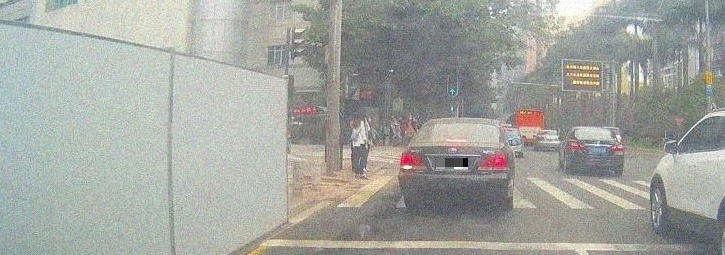L_light: (399, 154, 424, 169), (569, 143, 583, 150)
R_light: (477, 154, 509, 170), (610, 145, 623, 152)
T_light: (446, 137, 467, 143), (590, 128, 600, 131)
day-brake: (398, 118, 514, 209)
day-no: (567, 126, 625, 175)
plate_1: (436, 158, 468, 169)
